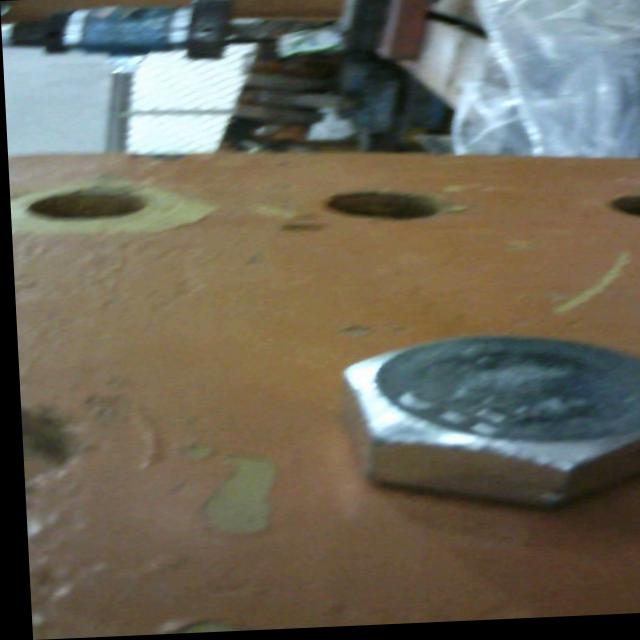Missing bolt: (321, 184, 442, 229), (18, 187, 147, 228), (603, 203, 640, 226)
Regular bolt: (326, 331, 640, 527)
